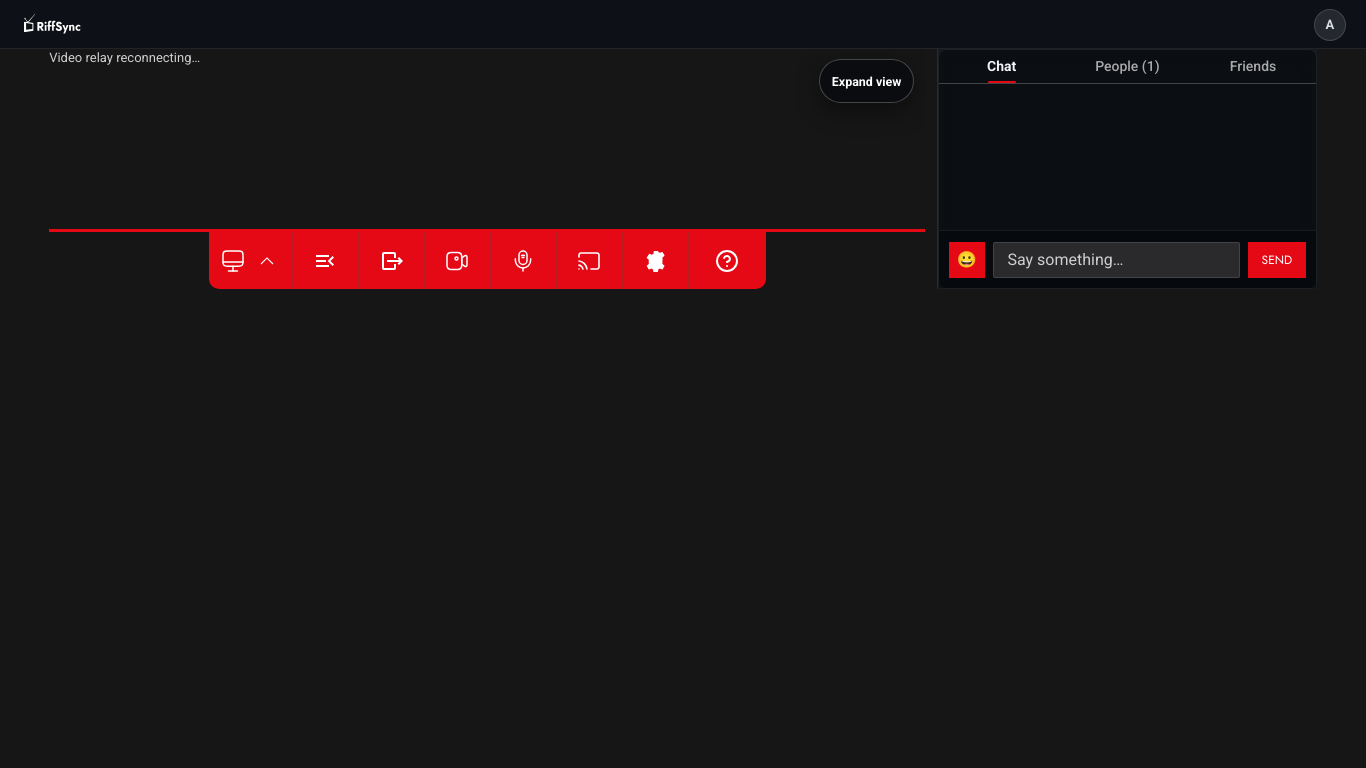
RoomPage host theater chrome › patches visibility and shows a status toast on success
Check: the element with class "riffsync-host-theater-bar" is shown, box [49,229,925,289]
Step 1. Click the button named "Settings" → (654, 260), box [620,232,686,289]
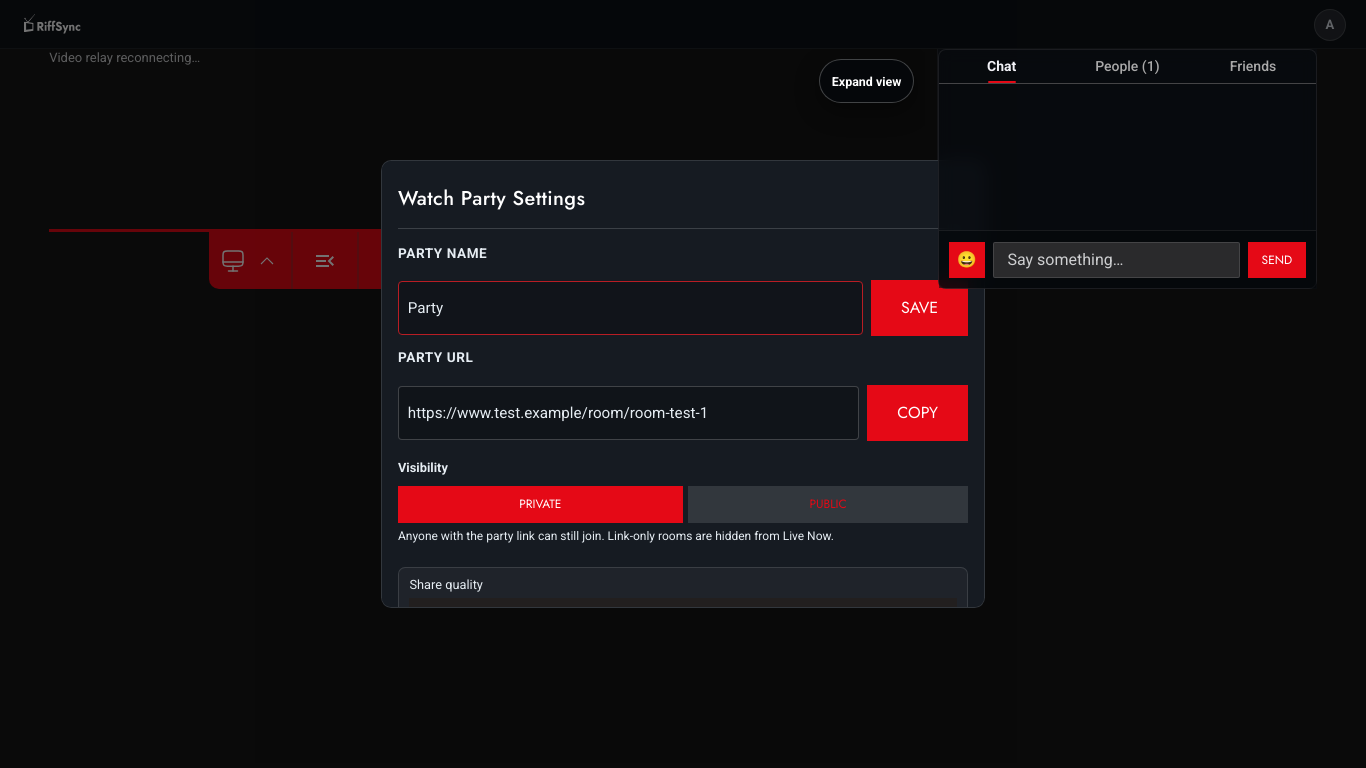
Step 2. Click the radio button labelled "Private" → (540, 504), box [398,486,683,523]
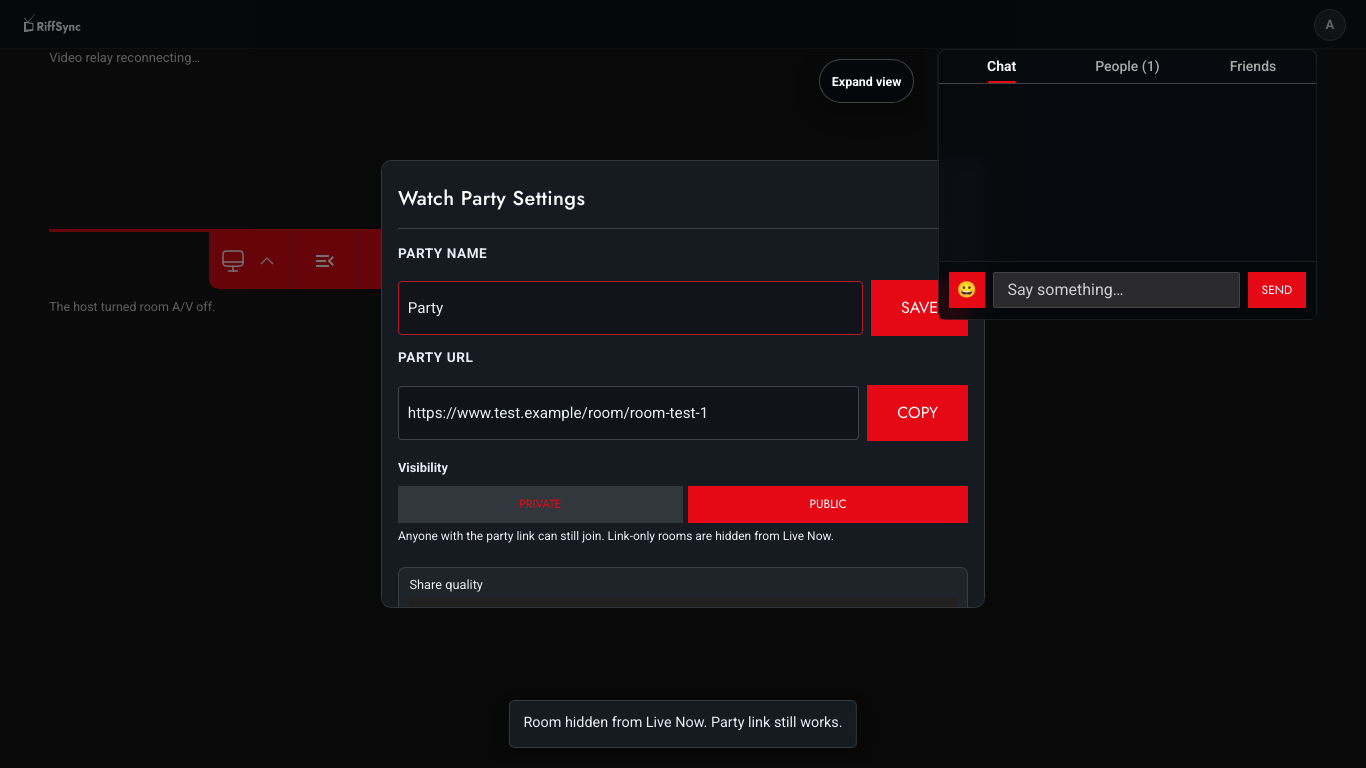
Check: the message with class "riffsync-watch-party-settings-status" shows "Live Now", box [524,714,843,731]
